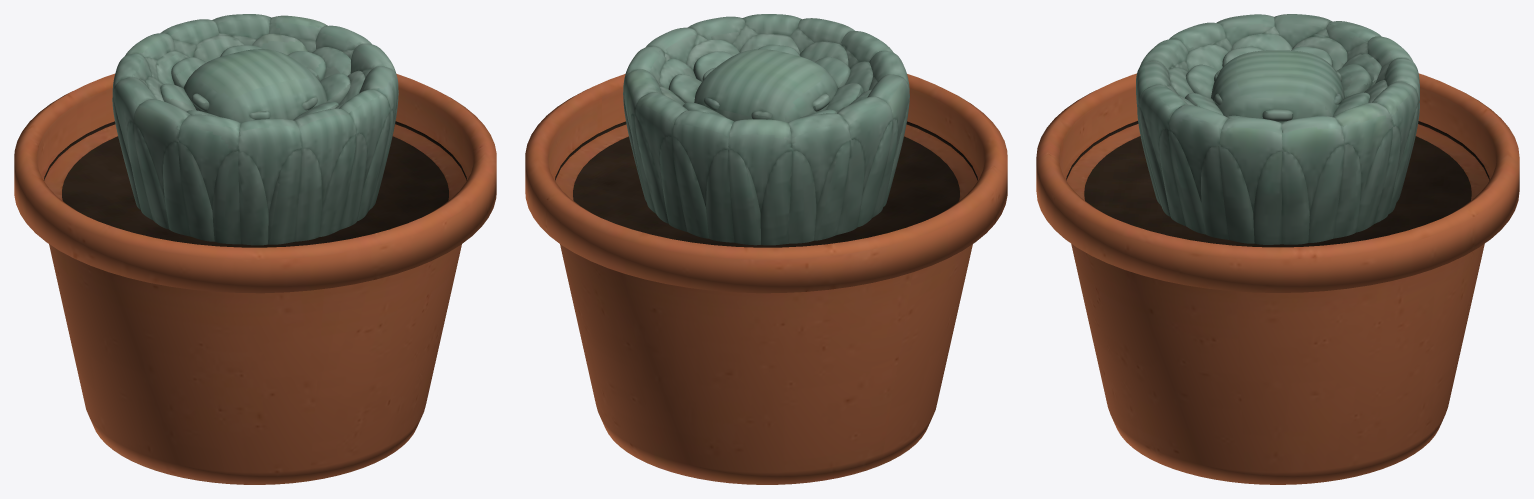
Rendered from echeveria.glb.
3 renders of one model, left to right at view 1: azimuth 30°, elevation 25°; view 2: azimuth 150°, elevation 25°; view 3: azimuth 270°, elevation 25°, orthographic.
Parts seen in each view (by area): view 1: terracotta, leaf_succulent, soil; view 2: terracotta, leaf_succulent, soil; view 3: terracotta, leaf_succulent, soil.
Boxes of the visible parts, bbox=[...] form: terracotta: bbox=[14, 73, 496, 484]; leaf_succulent: bbox=[112, 14, 398, 245]; soil: bbox=[44, 121, 466, 247]; terracotta: bbox=[525, 74, 1007, 484]; leaf_succulent: bbox=[623, 14, 909, 245]; soil: bbox=[555, 121, 977, 247]; terracotta: bbox=[1036, 73, 1519, 484]; leaf_succulent: bbox=[1136, 14, 1419, 244]; soil: bbox=[1066, 121, 1489, 247].
Bounding box in the file's own units: 0.1696 × 0.137 × 0.1696.
3 materials, 3 textured.
